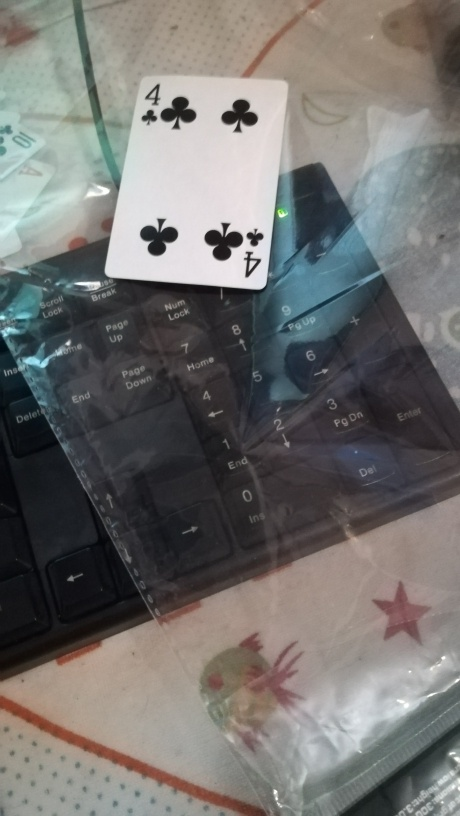mh 4: (101, 74, 290, 293)
